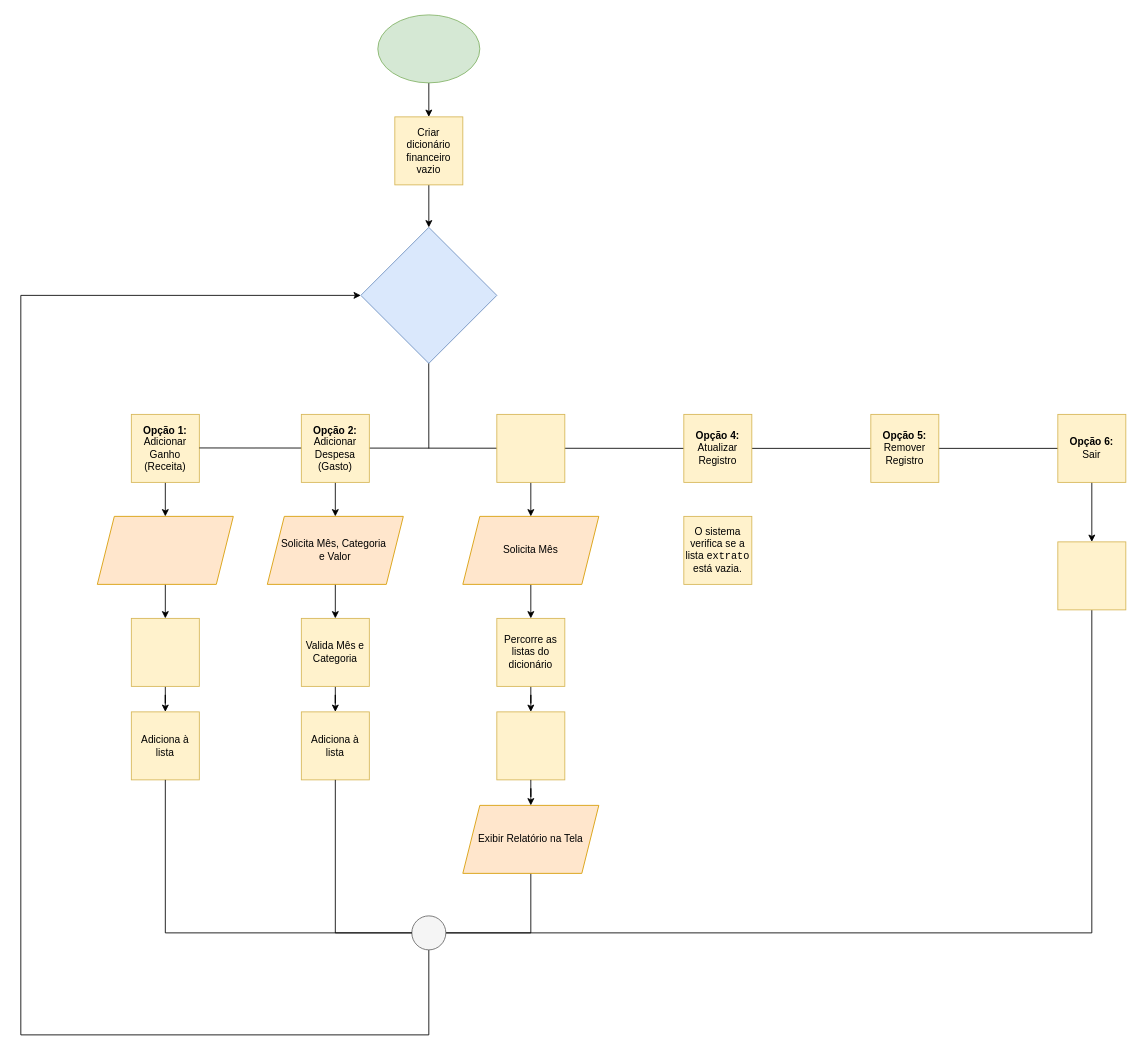
This 1141x1057 diagram has some shape labels left out. The box of each missing label's shape, as (x1, y1, x2, y2) in pixels:
Encerra o programa.: (1057, 541, 1126, 610)
Início do Programa: (377, 14, 480, 83)
Opção 3: Visualizar Histórico: (496, 414, 565, 482)
Qual opção o usuário escolheu?: (360, 227, 497, 363)
Solicita Mês e Valor: (96, 516, 233, 584)
Soma valores: (496, 711, 565, 780)
Valida se o Mês existe no dicionário: (130, 618, 199, 686)
